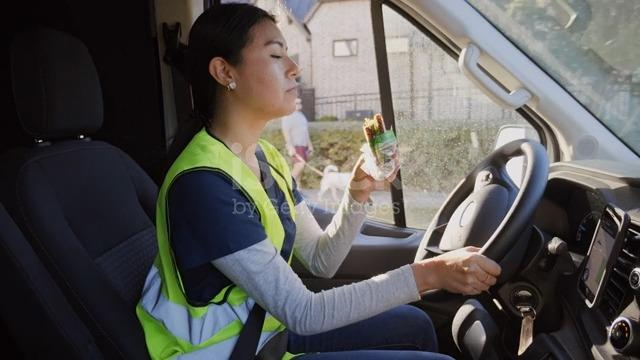Eating: (163, 5, 413, 202)
